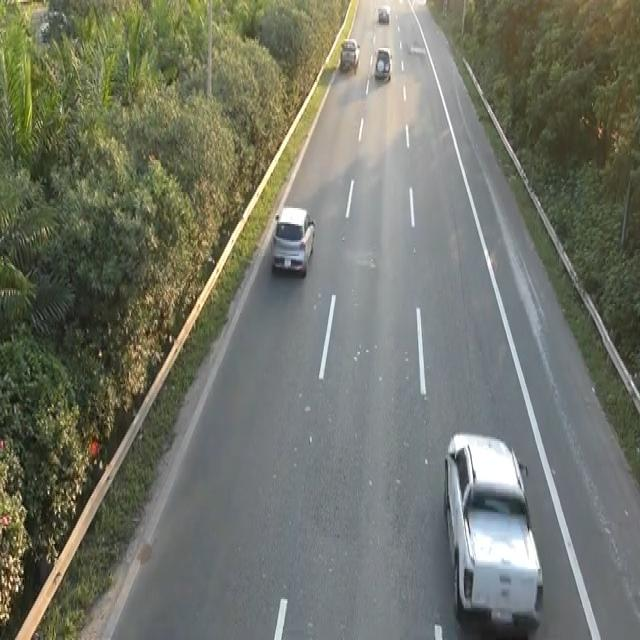bus: (270, 201, 316, 277)
car: (441, 428, 547, 633), (338, 35, 360, 73)
